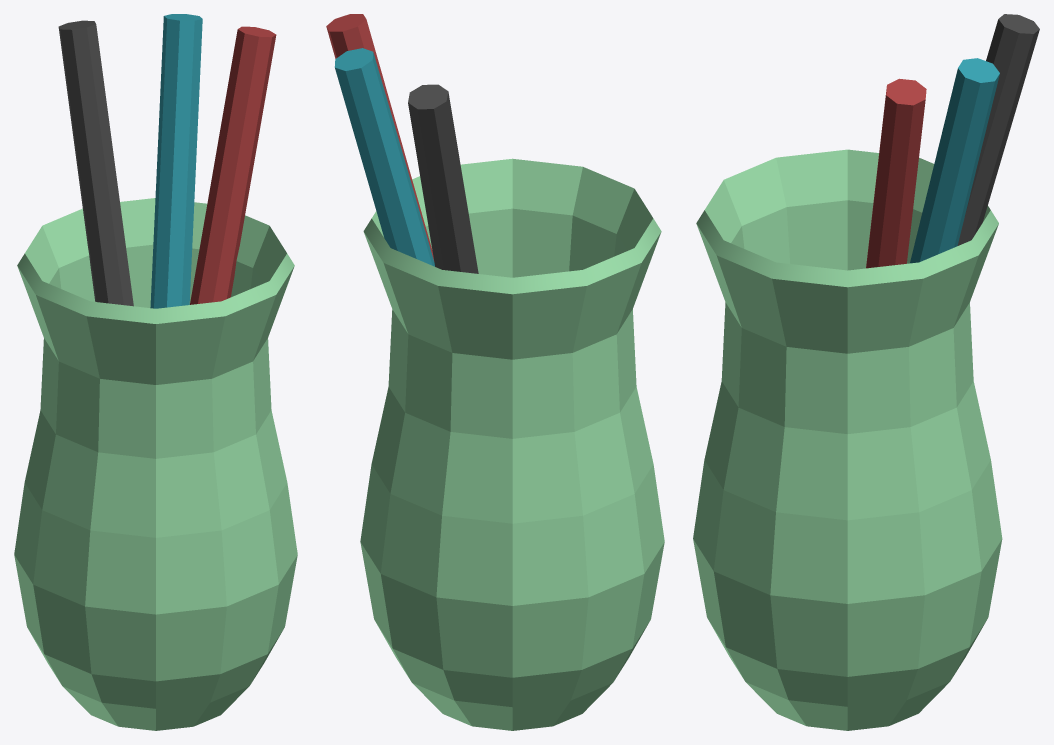
Rendered from PotCrayon.fbx.
The picture shows the model from 3 angles, left to right: view 1: azimuth 30°, elevation 25°; view 2: azimuth 150°, elevation 25°; view 3: azimuth 270°, elevation 25°; orthographic projection. The views are drawn at different scales.
Parts seen in each view (by area): view 1: PotCrayon; view 2: PotCrayon; view 3: PotCrayon.
Boxes of the visible parts, bbox=[...] form: PotCrayon: bbox=[14, 14, 297, 730]; PotCrayon: bbox=[326, 14, 664, 730]; PotCrayon: bbox=[693, 14, 1039, 730].
Size of the model in its own units: 7.33 by 16.33 by 7.58.
